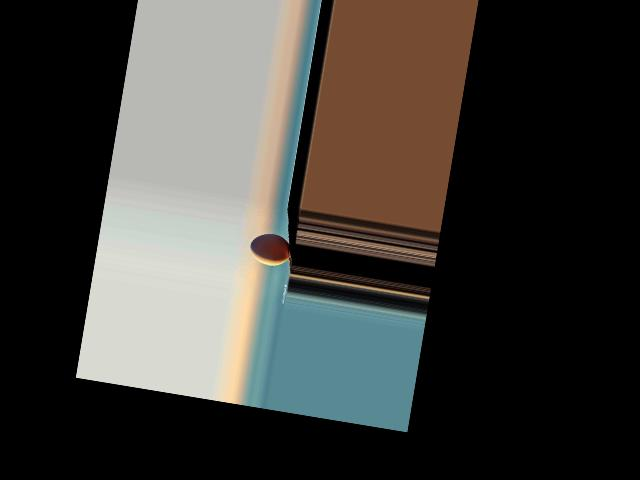egg: (247, 230, 292, 268)
